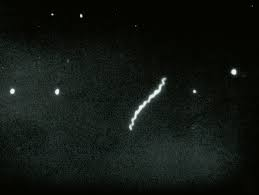sphyillis: (125, 78, 170, 132)
